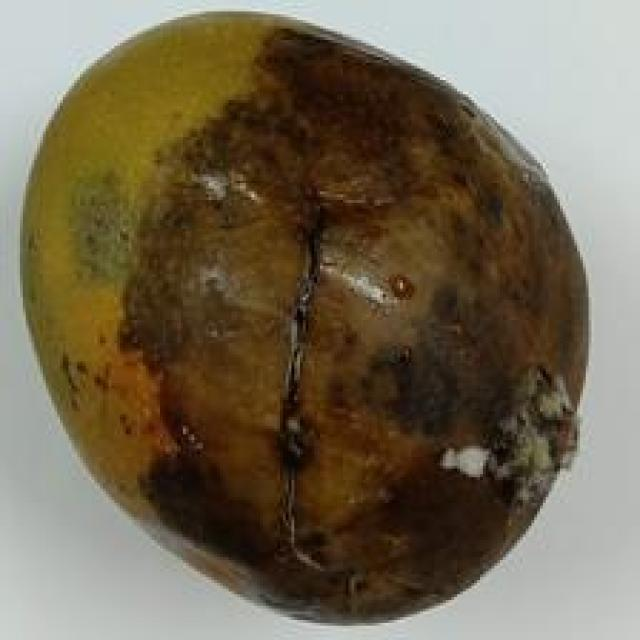Bad_Mango: (21, 16, 589, 622)
